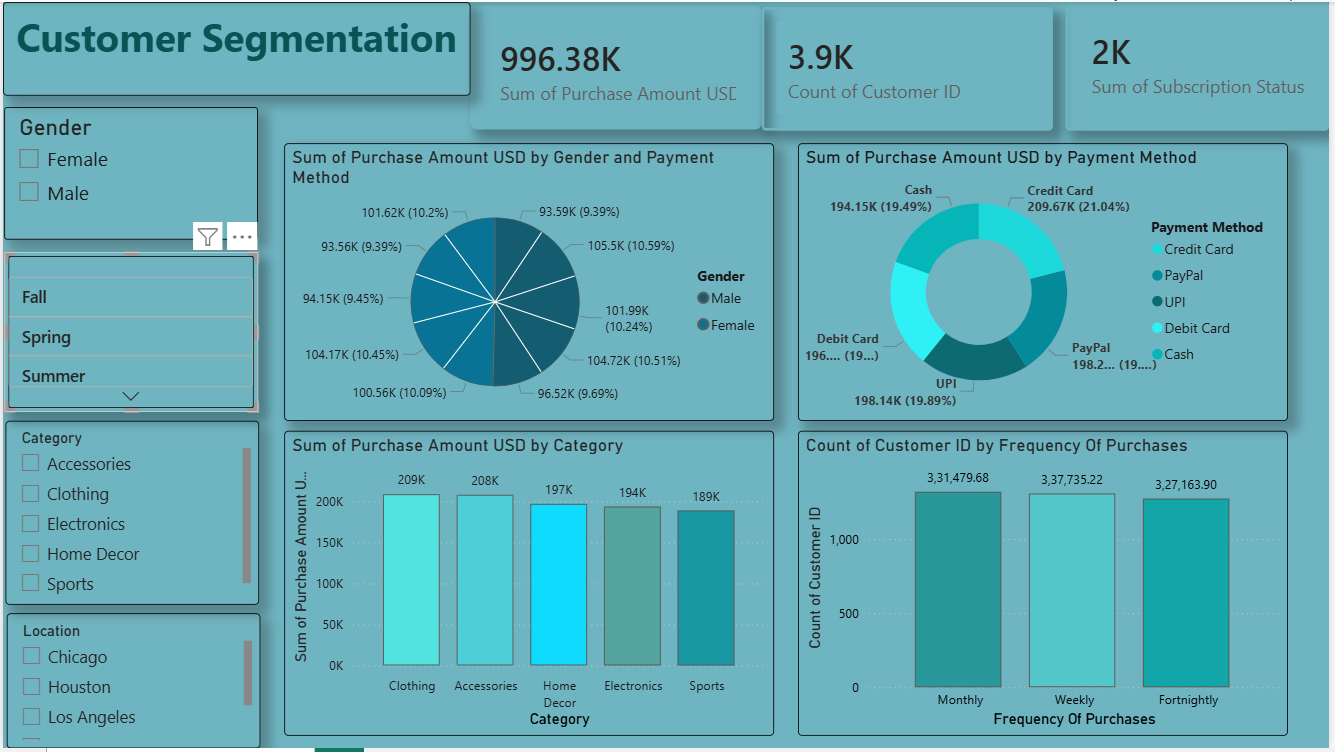

The dashboard page shown, as its layout file describes it:
{"tool":"powerbi","page":{"name":"customer_segmentation_project","canvas":[1280,720],"ordinal":0},"visuals":[{"type":"pieChart","fields":{"Category":["Customer_Segmentation.Gender"],"Series":["Customer_Segmentation.Payment Method"],"Y":["Sum(Customer_Segmentation.Purchase Amount USD)"]},"box":[271.4,136.3,472.9,267.8],"z":0},{"type":"cardVisual","fields":{"Data":["Sum(Customer_Segmentation.Purchase Amount USD)"]},"box":[517.6,0,281.1,114.6],"z":1000},{"type":"cardVisual","fields":{"Rows":["Customer_Segmentation.Season"]},"box":[1.2,241.3,244.9,154.4],"z":2000},{"type":"slicer","fields":{"Values":["Customer_Segmentation.Gender"]},"box":[1.2,101.3,244.9,127.9],"z":3000},{"type":"donutChart","fields":{"Category":["Customer_Segmentation.Payment Method"],"Y":["Sum(Customer_Segmentation.Purchase Amount USD)"]},"box":[767.3,136.3,472.9,267.8],"z":4000},{"type":"textbox","box":[1.2,0,506.7,90.5],"z":5000},{"type":"slicer","fields":{"Values":["Customer_Segmentation.Category"]},"box":[2.4,404.2,244.9,177.3],"z":6000},{"type":"cardVisual","fields":{"Data":["CountNonNull(Customer_Segmentation.Customer ID)"]},"box":[807.1,0,220.8,114.6],"z":7000},{"type":"cardVisual","fields":{"Data":["Sum(Customer_Segmentation.Subscription Status)"]},"box":[1036.3,2.4,243.7,112.2],"z":8000},{"type":"clusteredColumnChart","fields":{"Category":["Customer_Segmentation.Category"],"Y":["Sum(Customer_Segmentation.Purchase Amount USD)"]},"box":[271.4,413.8,472.9,294.4],"z":9000},{"type":"slicer","fields":{"Values":["Customer_Segmentation.Location"]},"box":[3.6,589.9,244.9,130.3],"z":10000},{"type":"clusteredColumnChart","fields":{"Category":["Customer_Segmentation.Frequency Of Purchases"],"Y":["CountNonNull(Customer_Segmentation.Customer ID)"]},"box":[767.3,413.8,472.9,294.4],"z":11000}]}

Visuals, with their boxes in screenshot pixels (x1, y1, x2, y2), scaled from the page's 1280x720 canvas onto the 1335x752 screenshot:
pieChart - Customer_Segmentation.Gender x Customer_Segmentation.Payment Method: locate(283, 142, 776, 422)
cardVisual - Sum(Customer_Segmentation.Purchase Amount USD): locate(540, 0, 833, 120)
cardVisual - Customer_Segmentation.Season: locate(1, 252, 257, 413)
slicer - Customer_Segmentation.Gender: locate(1, 106, 257, 239)
donutChart - Customer_Segmentation.Payment Method x Sum(Customer_Segmentation.Purchase Amount USD): locate(800, 142, 1293, 422)
textbox: locate(1, 0, 530, 95)
slicer - Customer_Segmentation.Category: locate(3, 422, 258, 607)
cardVisual - CountNonNull(Customer_Segmentation.Customer ID): locate(842, 0, 1072, 120)
cardVisual - Sum(Customer_Segmentation.Subscription Status): locate(1081, 3, 1334, 120)
clusteredColumnChart - Customer_Segmentation.Category x Sum(Customer_Segmentation.Purchase Amount USD): locate(283, 432, 776, 740)
slicer - Customer_Segmentation.Location: locate(4, 616, 259, 751)
clusteredColumnChart - Customer_Segmentation.Frequency Of Purchases x CountNonNull(Customer_Segmentation.Customer ID): locate(800, 432, 1293, 740)
